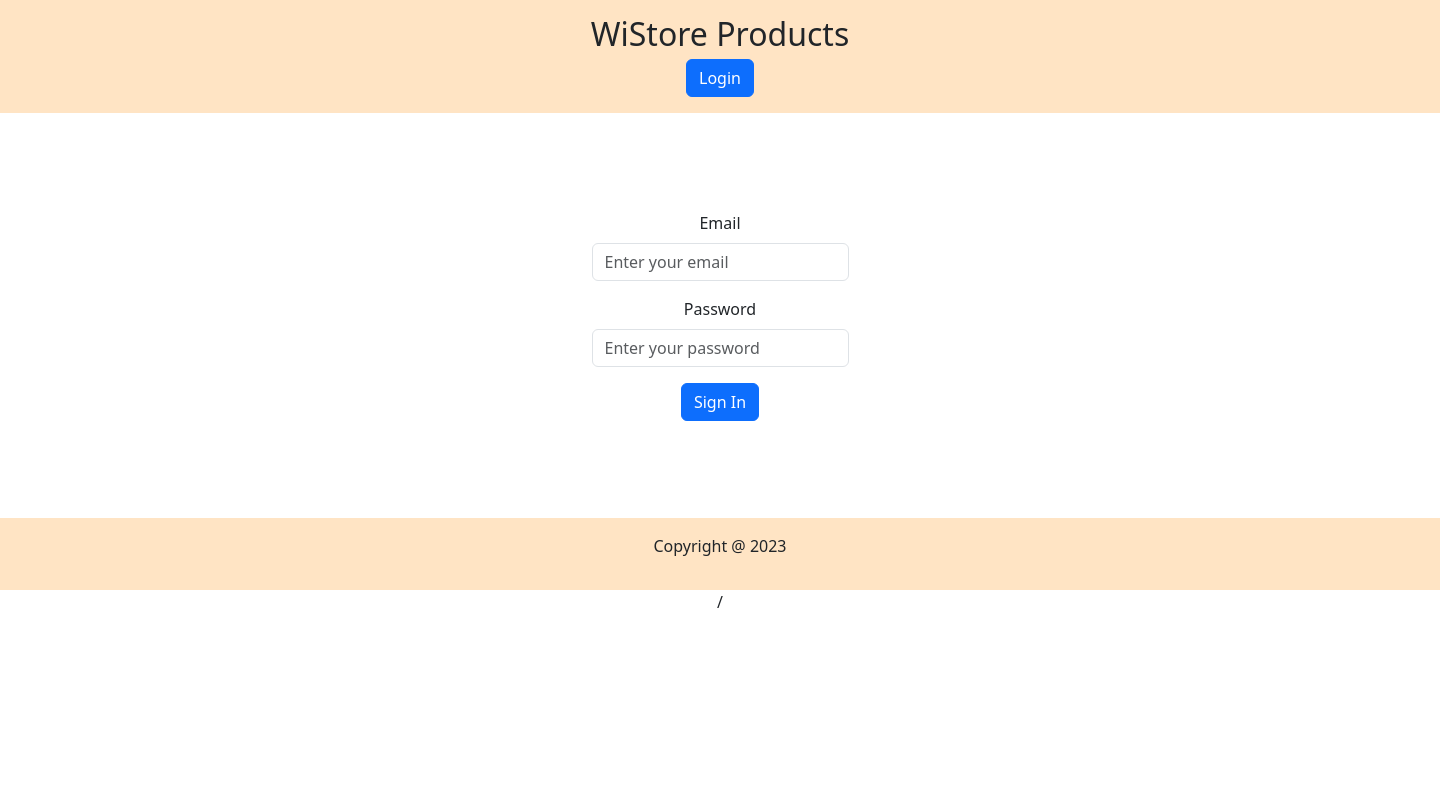
it: Login form test kullanıcısı bilgileri ile doldurulunca doğru sayfaya yönleniyor
Type "erdem.guntay@wit.com.tr" into the field with placeholder "Enter your email". click: (720, 262)
box: [592,243,848,281]
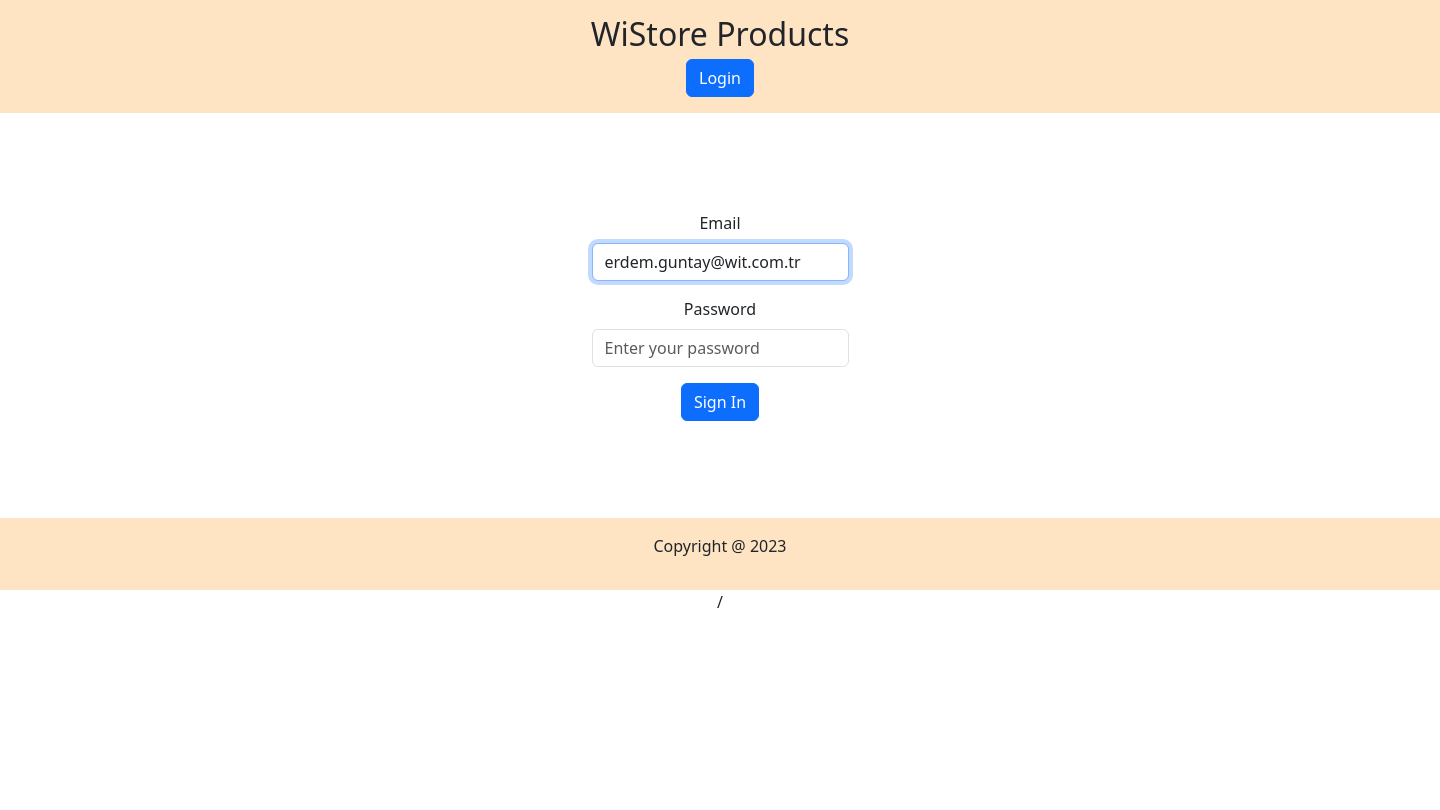
Type "9fxIH0GXesEwH_I" into the password field with placeholder "Enter your password". click: (720, 348)
box: [592,329,848,367]
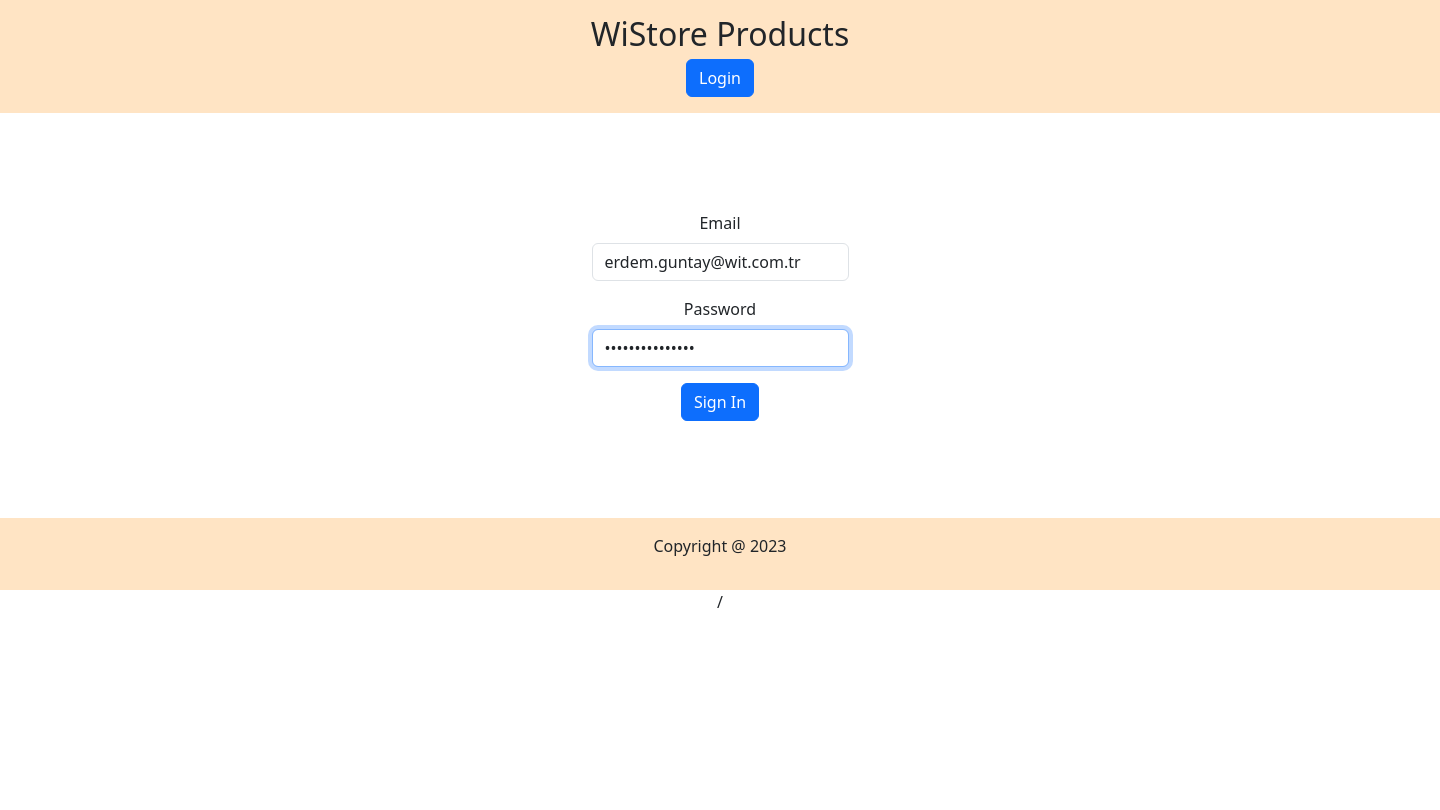
Click the button "Sign In". click: (720, 402)
box: [681,383,759,421]
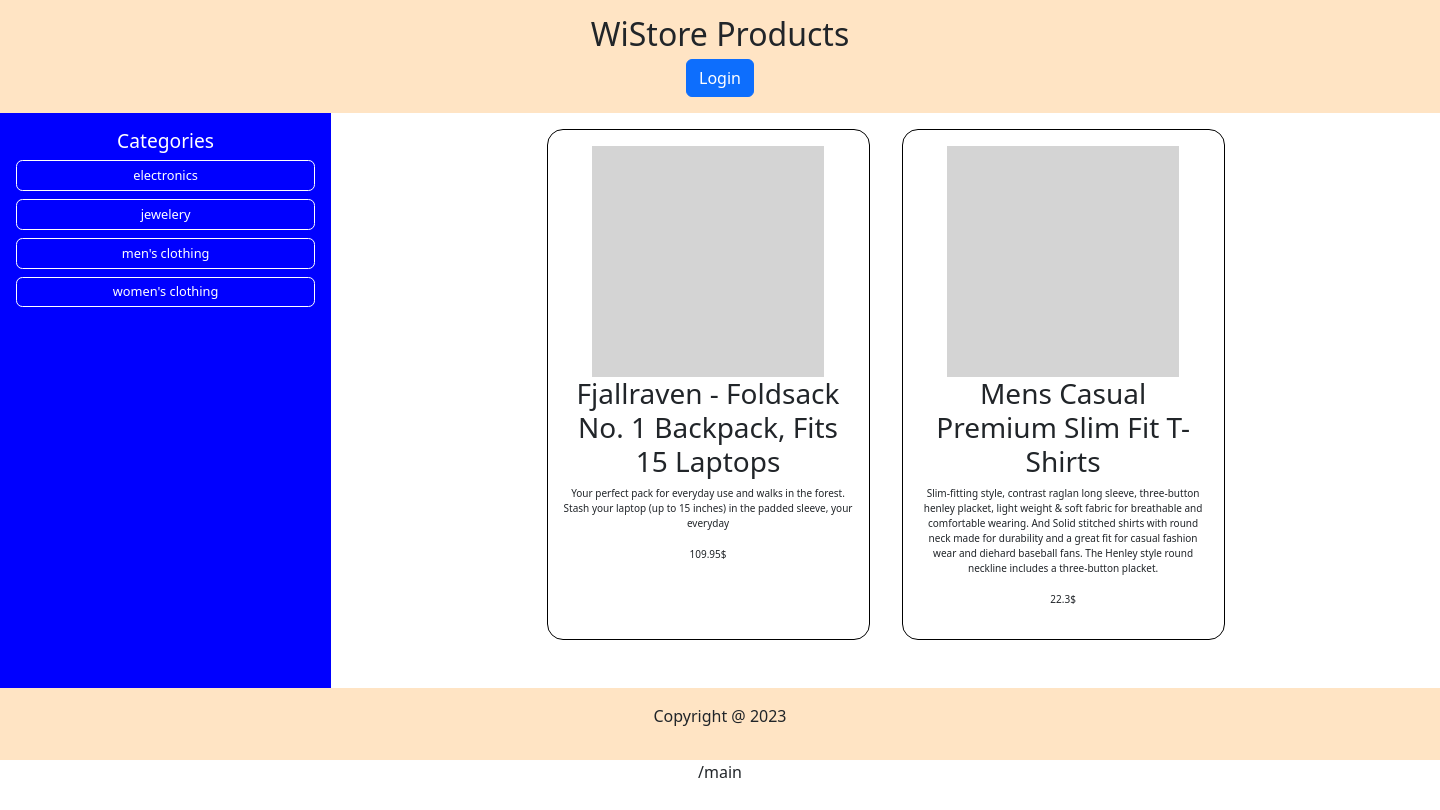
Expected: the text "electronics" is shown, [16,160,315,191]
Expected: the text "/main" is shown, [698,761,742,783]
